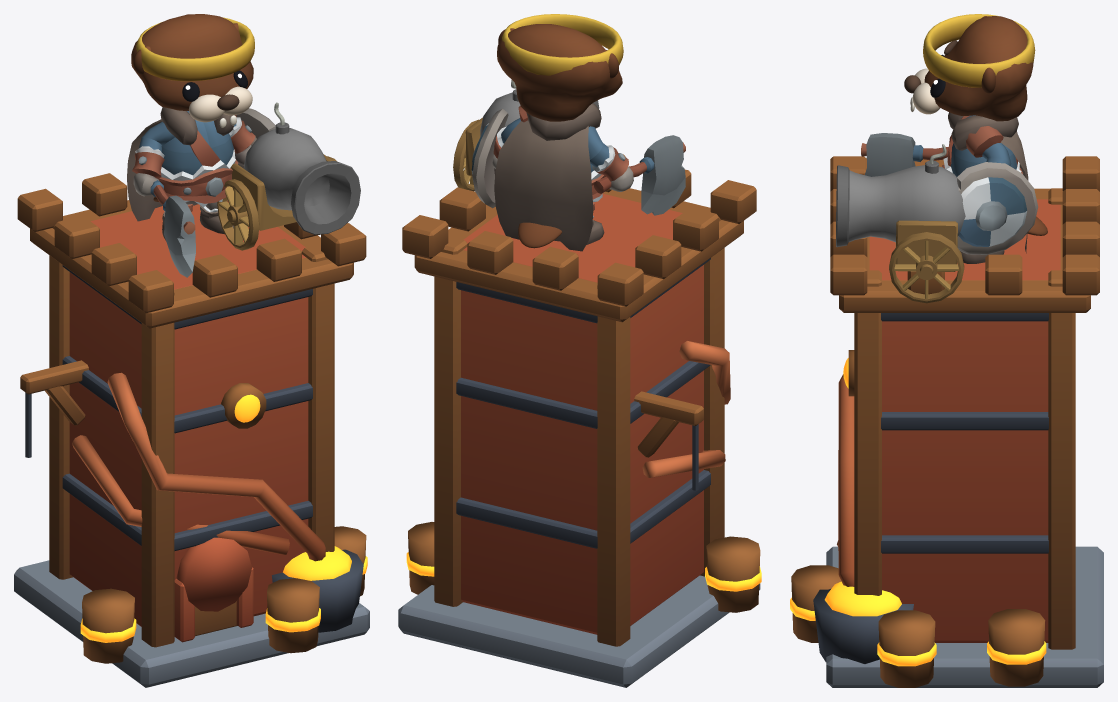
The model's file is tower_beaver_t2.glb.
3 views of the same model, side by side, from view 1: azimuth 30°, elevation 25°; view 2: azimuth 150°, elevation 25°; view 3: azimuth 270°, elevation 25° (orthographic). The views are drawn at different scales.
Visible parts, largest first — view 1: CustomTowerBase_beaver_t2, Cannon, Barbarian_Body, BvHead, NativeHat_BvBand, 1H_Axe, Cannon_Wheels, Barbarian_ArmRight, Barbarian_Cape, WhiskerPad_-1, Barbarian_ArmLeft, Barbarian_Round_Shield; view 2: CustomTowerBase_beaver_t2, Barbarian_Cape, BvHead, NativeHat_BvBand, 1H_Axe, Barbarian_Round_Shield, Barbarian_ArmRight, Barbarian_Body, Cannon, BeaverPaddleTail, Cannon_Wheels; view 3: CustomTowerBase_beaver_t2, Cannon, BvHead, Barbarian_Round_Shield, NativeHat_BvBand, Cannon_Wheels, 1H_Axe, Barbarian_Body, Barbarian_ArmLeft, WhiskerPad_1, Barbarian_Cape.
Part boxes in pixels (x1,y1,x2,y2): CustomTowerBase_beaver_t2: [14, 173, 369, 687]; Cannon: [231, 102, 360, 234]; Barbarian_Body: [157, 107, 238, 207]; BvHead: [131, 14, 253, 110]; NativeHat_BvBand: [136, 17, 254, 81]; 1H_Axe: [150, 180, 195, 277]; Cannon_Wheels: [217, 156, 336, 250]; Barbarian_ArmRight: [132, 122, 174, 196]; Barbarian_Cape: [127, 119, 197, 221]; WhiskerPad_-1: [189, 94, 224, 122]; Barbarian_ArmLeft: [229, 115, 255, 165]; Barbarian_Round_Shield: [236, 108, 275, 168]; CustomTowerBase_beaver_t2: [398, 154, 761, 687]; Barbarian_Cape: [494, 120, 593, 251]; BvHead: [497, 24, 622, 121]; NativeHat_BvBand: [502, 14, 623, 75]; 1H_Axe: [593, 135, 685, 215]; Barbarian_Round_Shield: [471, 108, 508, 208]; Barbarian_ArmRight: [588, 126, 633, 191]; Barbarian_Body: [526, 103, 605, 201]; Cannon: [465, 80, 599, 176]; BeaverPaddleTail: [518, 222, 562, 248]; Cannon_Wheels: [453, 119, 478, 191]; CustomTowerBase_beaver_t2: [790, 156, 1103, 687]; Cannon: [836, 144, 965, 271]; BvHead: [924, 16, 1033, 121]; Barbarian_Round_Shield: [956, 162, 1038, 254]; NativeHat_BvBand: [923, 14, 1035, 87]; Cannon_Wheels: [889, 232, 964, 303]; 1H_Axe: [861, 133, 948, 176]; Barbarian_Body: [942, 112, 1022, 176]; Barbarian_ArmLeft: [966, 126, 1011, 166]; WhiskerPad_1: [912, 82, 940, 114]; Barbarian_Cape: [1000, 131, 1028, 253].
Bounding box in the file's own units: 1.08 × 2.09 × 0.972.
10 materials, 3 textured.
